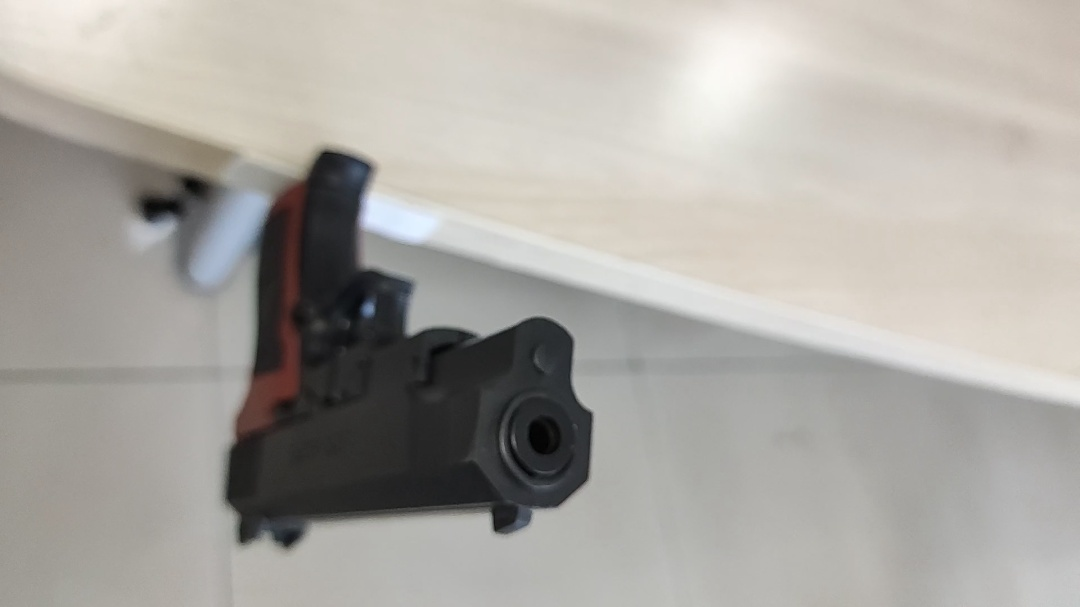gun: (223, 150, 596, 550)
